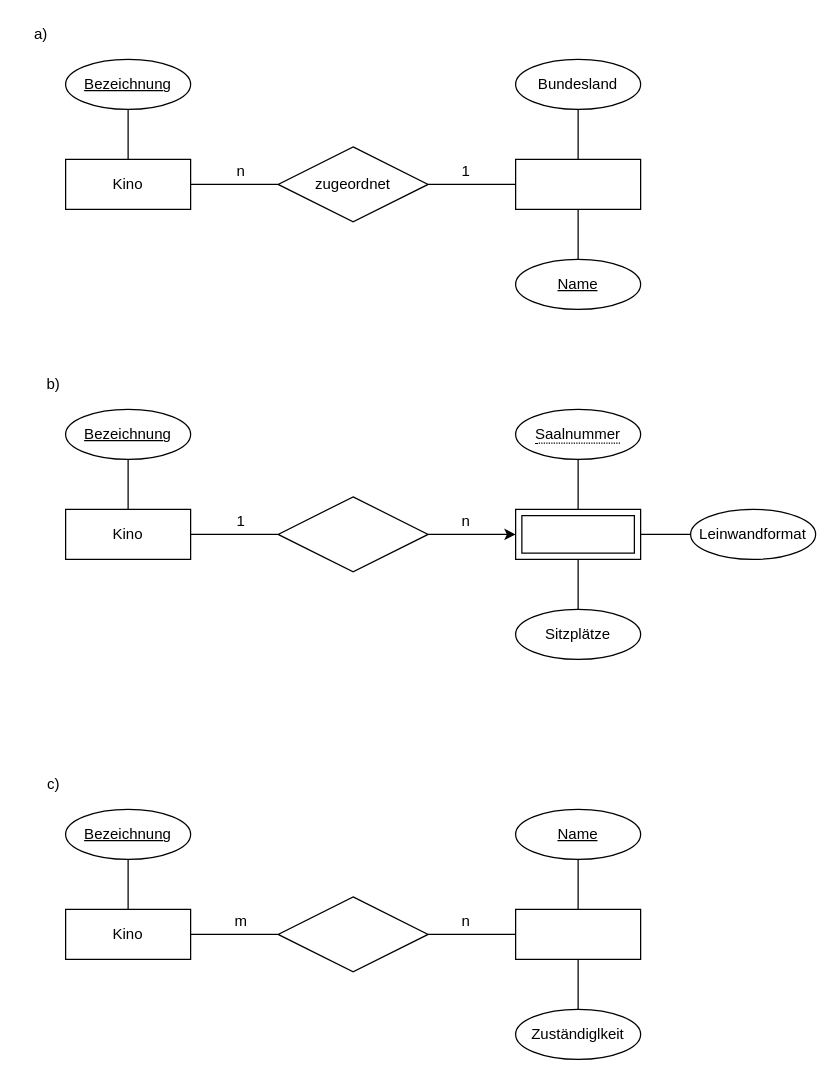
Image size: 838x1081. Some labels were removed from this diagram. The box of each missing label's shape, as (x1, y1, x2, y2) in pixels:
arbeiten: (277, 896, 428, 972)
beinhaltet: (277, 496, 428, 572)
Mitarbeiterinnnen: (514, 908, 641, 959)
Saal: (514, 508, 641, 559)
Stadt: (514, 158, 641, 209)
